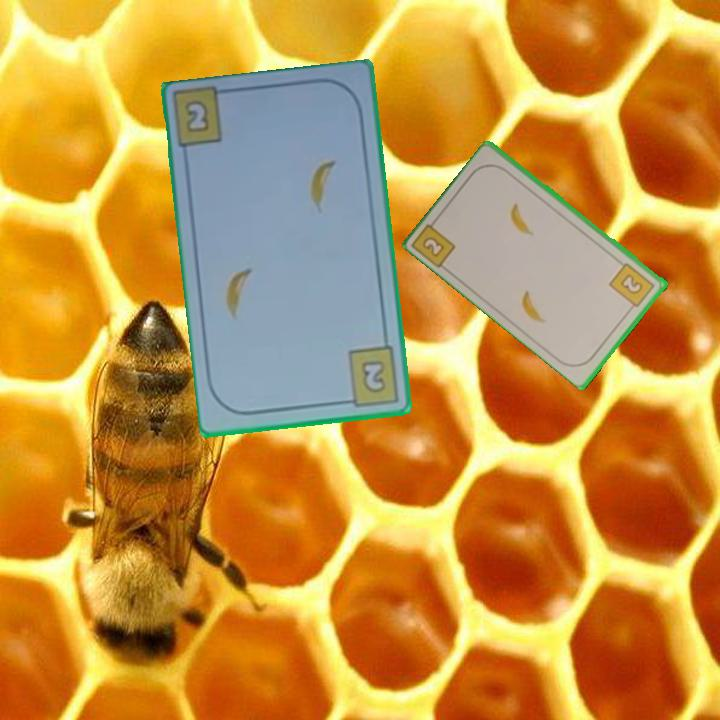2b: (338, 342, 402, 408), (606, 259, 658, 314), (410, 213, 459, 271), (181, 96, 213, 137)
